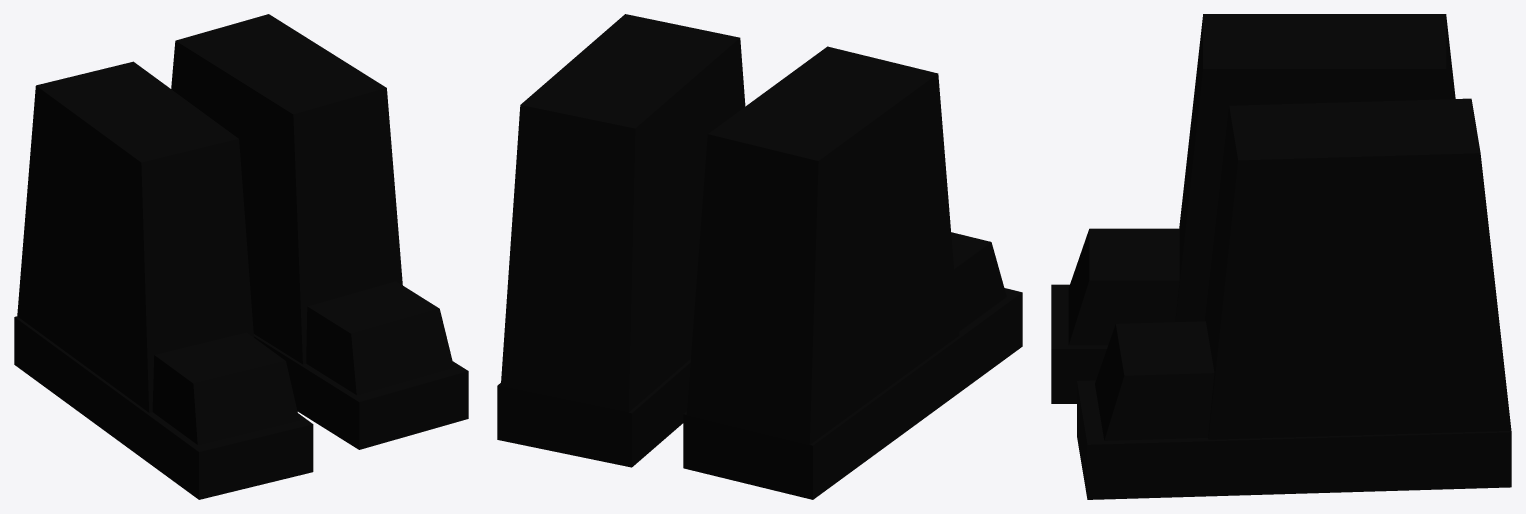
Rendered from SM_boots.fbx.
The picture shows the model from 3 angles, left to right: view 1: azimuth 30°, elevation 25°; view 2: azimuth 150°, elevation 25°; view 3: azimuth 270°, elevation 25°; orthographic projection. The views are drawn at different scales.
Parts seen in each view (by area): view 1: boots; view 2: boots; view 3: boots.
Boxes of the visible parts, x1,y1,x2,y2 form: boots: (14, 14, 468, 499); boots: (497, 14, 1022, 499); boots: (1051, 14, 1511, 499).
Size of the model in its own units: 0.2496 by 0.24 by 0.3031.
